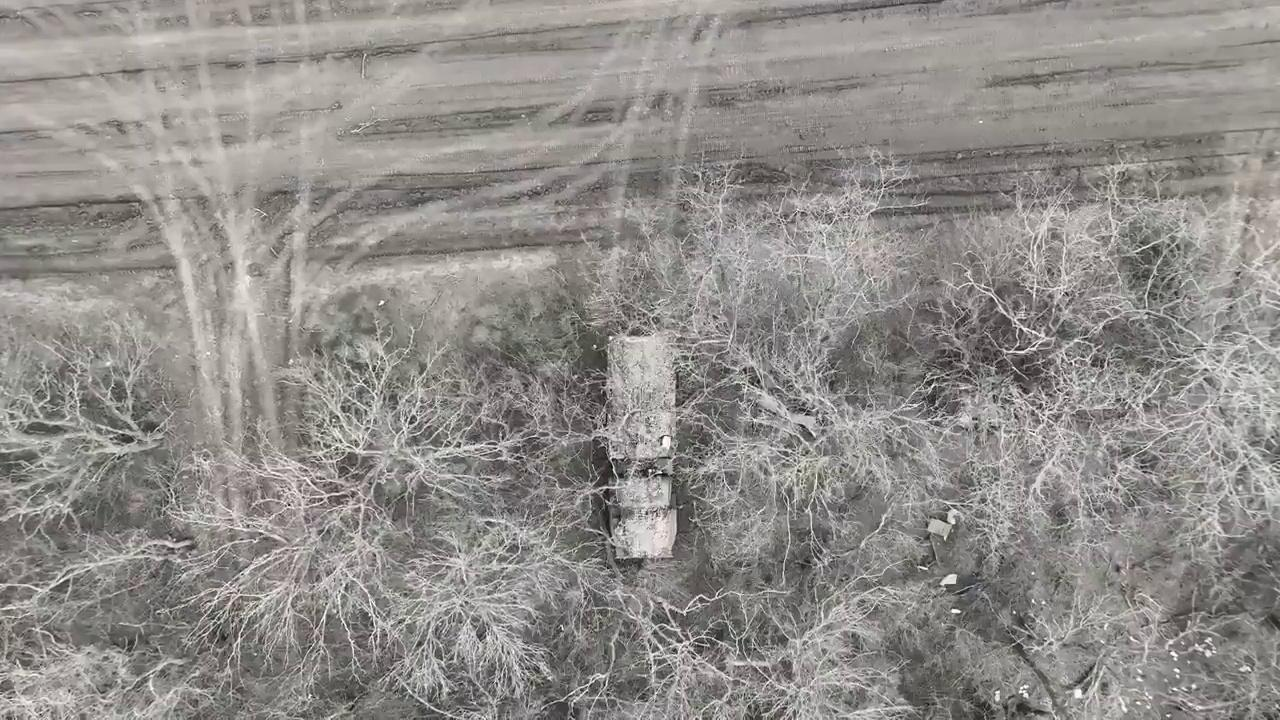vehicle: (606, 334, 676, 558)
